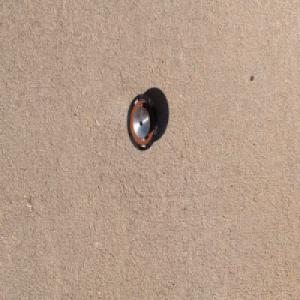FuelCap: (125, 91, 159, 152)
